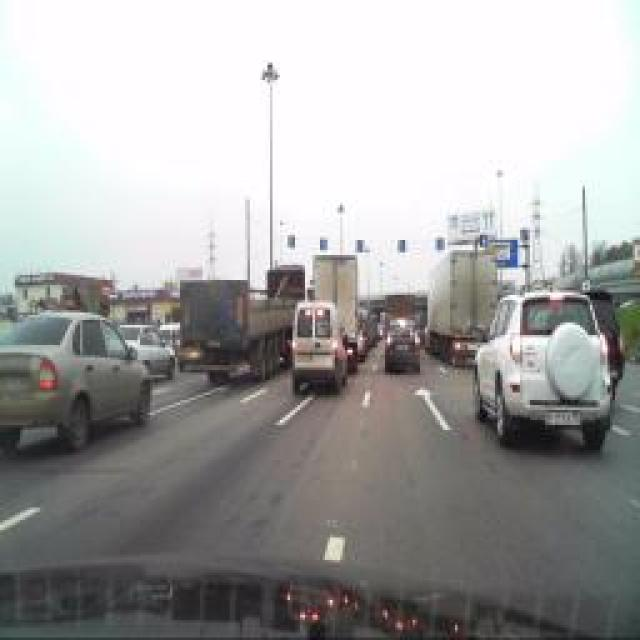sign: (521, 228, 529, 242)
